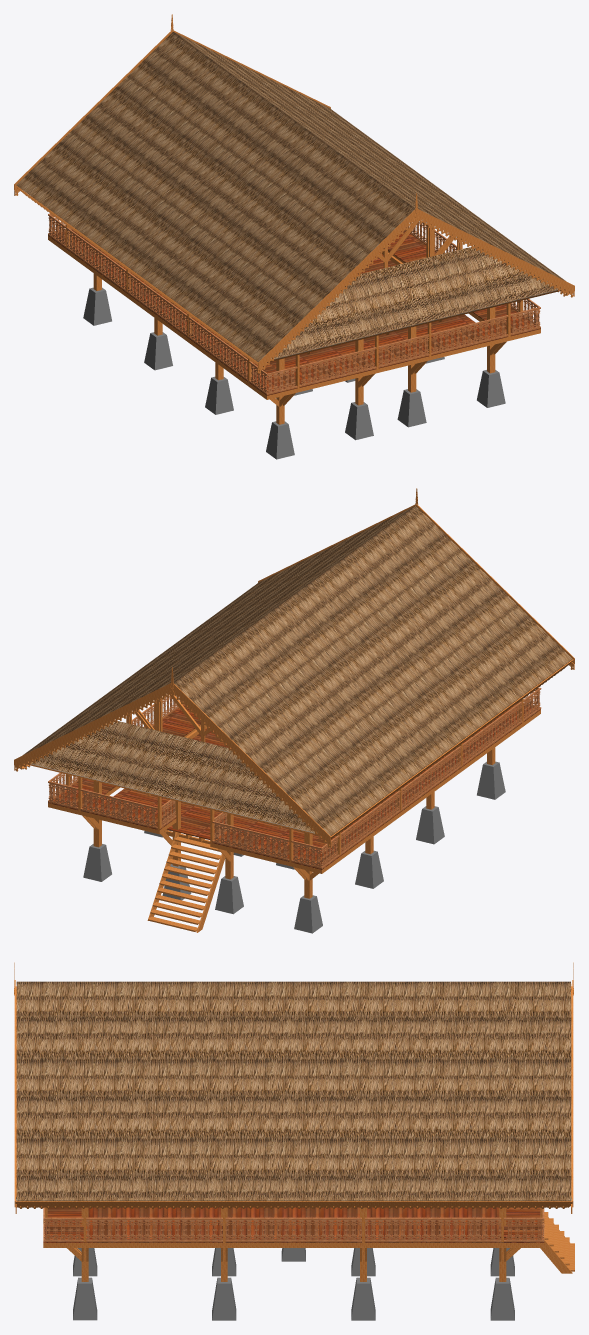
File: baruga.glb
3 views of the same model, one above another, from view 1: azimuth 30°, elevation 25°; view 2: azimuth 150°, elevation 25°; view 3: azimuth 270°, elevation 25° (orthographic). The views are drawn at different scales.
Visible parts, largest first — view 1: Mesh533_M_3_thatched_roof_texture_seamless_0, Mesh1_akb_cedar_spanish_0, Mesh266__Wood_Cherry_Original_6_0, Mesh99_Wood_Fence_0, Mesh147_Color_M07_0; view 2: Mesh533_M_3_thatched_roof_texture_seamless_0, Mesh1_akb_cedar_spanish_0, Mesh266__Wood_Cherry_Original_6_0, Mesh99_Wood_Fence_0, Mesh147_Color_M07_0; view 3: Mesh533_M_3_thatched_roof_texture_seamless_0, Mesh99_Wood_Fence_0, Mesh1_akb_cedar_spanish_0, Mesh266__Wood_Cherry_Original_6_0, Mesh147_Color_M07_0.
Part boxes in pixels (x1,y1,x2,y2): Mesh533_M_3_thatched_roof_texture_seamless_0: (16, 32, 565, 362); Mesh1_akb_cedar_spanish_0: (14, 14, 574, 424); Mesh266__Wood_Cherry_Original_6_0: (48, 213, 540, 394); Mesh99_Wood_Fence_0: (48, 229, 540, 395); Mesh147_Color_M07_0: (83, 287, 505, 459); Mesh533_M_3_thatched_roof_texture_seamless_0: (23, 506, 572, 836); Mesh1_akb_cedar_spanish_0: (14, 488, 574, 932); Mesh266__Wood_Cherry_Original_6_0: (48, 687, 541, 868); Mesh99_Wood_Fence_0: (48, 703, 540, 869); Mesh147_Color_M07_0: (83, 761, 505, 933); Mesh533_M_3_thatched_roof_texture_seamless_0: (16, 981, 571, 1201); Mesh99_Wood_Fence_0: (43, 1207, 544, 1242); Mesh1_akb_cedar_spanish_0: (14, 962, 574, 1281); Mesh266__Wood_Cherry_Original_6_0: (43, 1207, 544, 1242); Mesh147_Color_M07_0: (73, 1248, 514, 1320).
Size of the model in its own units: 12.02 by 9.41 by 16.12.
7 materials, 5 textured.
